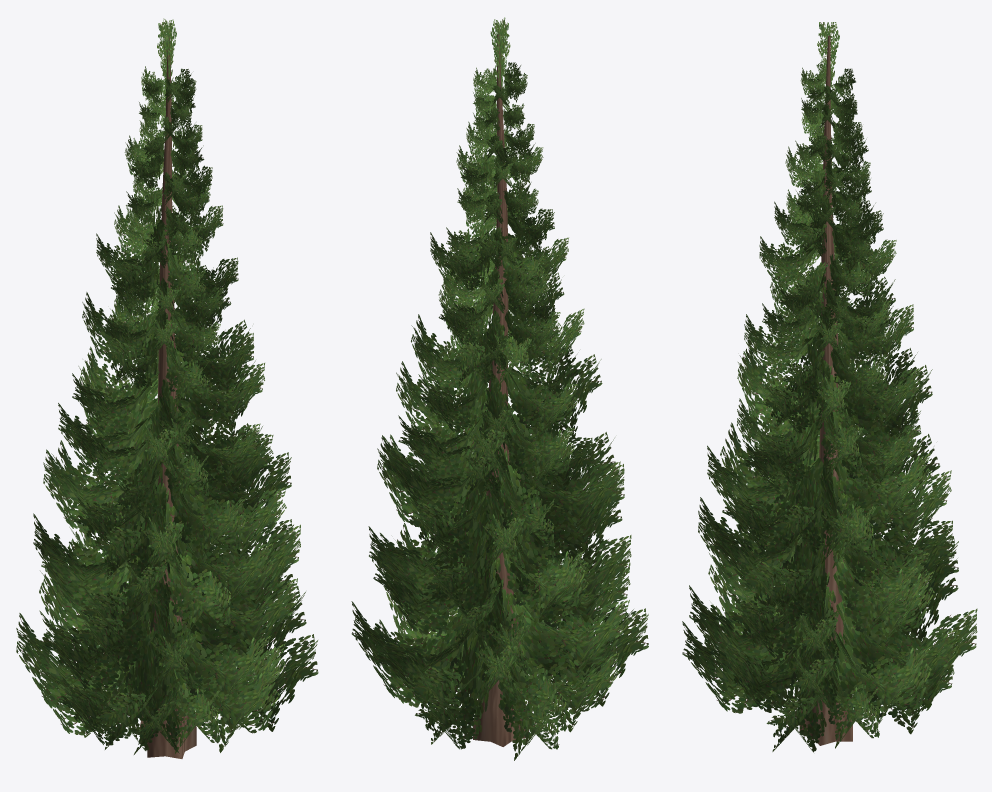
Rendered from veg_western_red_cedar_b.fbx.
The picture shows the model from 3 angles, left to right: view 1: azimuth 30°, elevation 25°; view 2: azimuth 150°, elevation 25°; view 3: azimuth 270°, elevation 25°; orthographic projection. The views are drawn at different scales.
Parts seen in each view (by area): view 1: veg_western_red_cedar_b_LOD0; view 2: veg_western_red_cedar_b_LOD0; view 3: veg_western_red_cedar_b_LOD0.
Part boxes in pixels (bbox=[...]): veg_western_red_cedar_b_LOD0: bbox=[16, 18, 318, 758]; veg_western_red_cedar_b_LOD0: bbox=[351, 17, 648, 760]; veg_western_red_cedar_b_LOD0: bbox=[682, 22, 977, 752].
Size of what is drawn, in the model's own units: 6.17 by 16.82 by 6.35.
2 materials, 2 textured.
